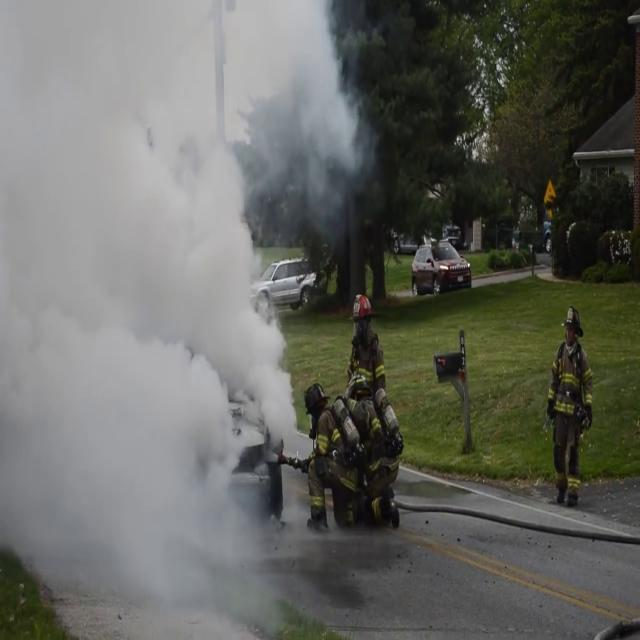Smoke: (0, 0, 308, 637)
